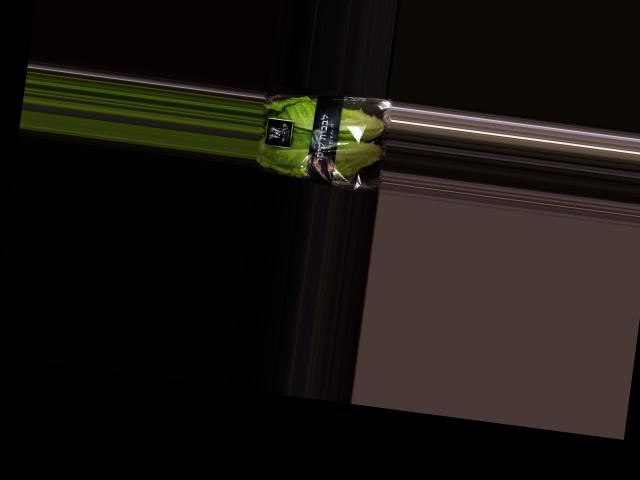lettuce: (256, 83, 393, 186)
